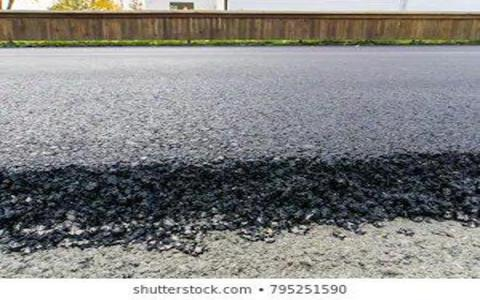Proper road: (19, 46, 480, 150)
